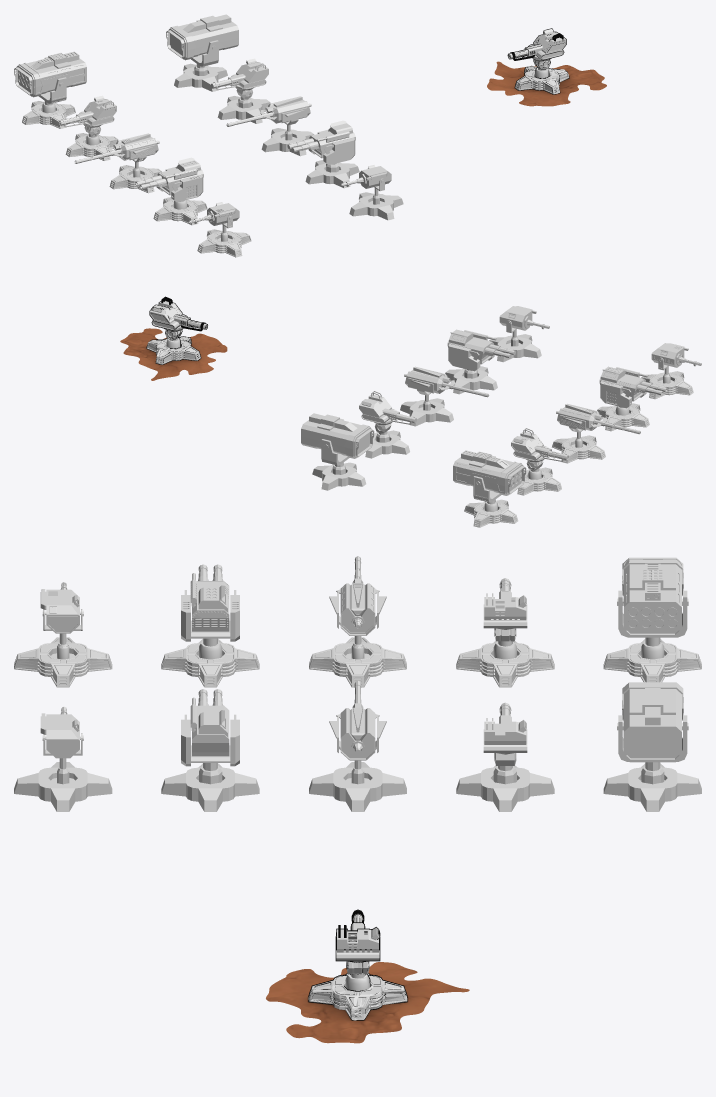
File: Turrets.fbx
The picture shows the model from 3 angles, top to bottom: view 1: azimuth 30°, elevation 25°; view 2: azimuth 150°, elevation 25°; view 3: azimuth 270°, elevation 25°; orthographic projection. The views are drawn at different scales.
Visible parts, largest first — view 1: turret_5, Plane, Preview, low_turret_5, turret_2, turret_4, turret_3, low_bottom_1, bottom_1, low_turret_4, low_bottom_5, bottom_5 (+12 smaller); view 2: turret_5, Plane, Preview, low_turret_5, turret_2, turret_4, turret_3, low_turret_4, low_bottom_5, bottom_5, low_bottom_3, bottom_3 (+12 smaller); view 3: Plane, turret_5, Preview, low_turret_5, turret_2, bottom_1, low_bottom_1, low_bottom_3, low_bottom_5, bottom_2, low_bottom_2, bottom_3 (+11 smaller).
Part boxes in pixels (x1=…): turret_5: x1=14, y1=51, x2=86, y2=103; Plane: x1=487, y1=61, x2=606, y2=106; Preview: x1=507, y1=28, x2=569, y2=94; low_turret_5: x1=166, y1=14, x2=238, y2=60; turret_2: x1=135, y1=157, x2=203, y2=202; turret_4: x1=59, y1=95, x2=116, y2=136; turret_3: x1=74, y1=133, x2=159, y2=163; low_bottom_1: x1=349, y1=188, x2=403, y2=220; bottom_1: x1=197, y1=225, x2=251, y2=257; low_turret_4: x1=213, y1=58, x2=268, y2=99; low_bottom_5: x1=174, y1=63, x2=227, y2=91; bottom_5: x1=22, y1=101, x2=75, y2=128; turret_5: x1=453, y1=450, x2=526, y2=502; Plane: x1=120, y1=328, x2=227, y2=380; Preview: x1=146, y1=296, x2=207, y2=364; low_turret_5: x1=301, y1=413, x2=374, y2=458; turret_2: x1=599, y1=366, x2=667, y2=408; turret_4: x1=511, y1=428, x2=568, y2=470; turret_3: x1=556, y1=403, x2=640, y2=434; low_turret_4: x1=359, y1=391, x2=414, y2=433; low_bottom_5: x1=312, y1=462, x2=366, y2=490; bottom_5: x1=464, y1=499, x2=518, y2=527; low_bottom_3: x1=400, y1=395, x2=453, y2=426; bottom_3: x1=552, y1=432, x2=605, y2=463; Plane: x1=266, y1=962, x2=469, y2=1043; turret_5: x1=617, y1=557, x2=688, y2=637; Preview: x1=308, y1=909, x2=407, y2=1020; low_turret_5: x1=622, y1=682, x2=683, y2=762; turret_2: x1=181, y1=564, x2=239, y2=641; bottom_1: x1=14, y1=633, x2=112, y2=687; low_bottom_1: x1=14, y1=758, x2=112, y2=811; low_bottom_3: x1=309, y1=760, x2=406, y2=811; low_bottom_5: x1=603, y1=762, x2=701, y2=811; bottom_2: x1=161, y1=638, x2=259, y2=687; low_bottom_2: x1=161, y1=763, x2=259, y2=811; bottom_3: x1=309, y1=636, x2=406, y2=687.
Bounding box in the file's own units: 2243 × 224 × 1400.
